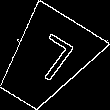L_SW: (17, 31, 76, 90)
